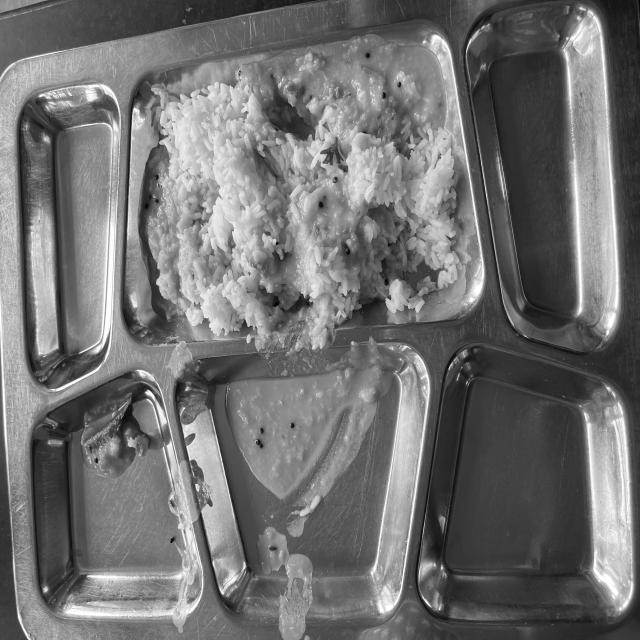50-Food-Left: (4, 74, 626, 614)
